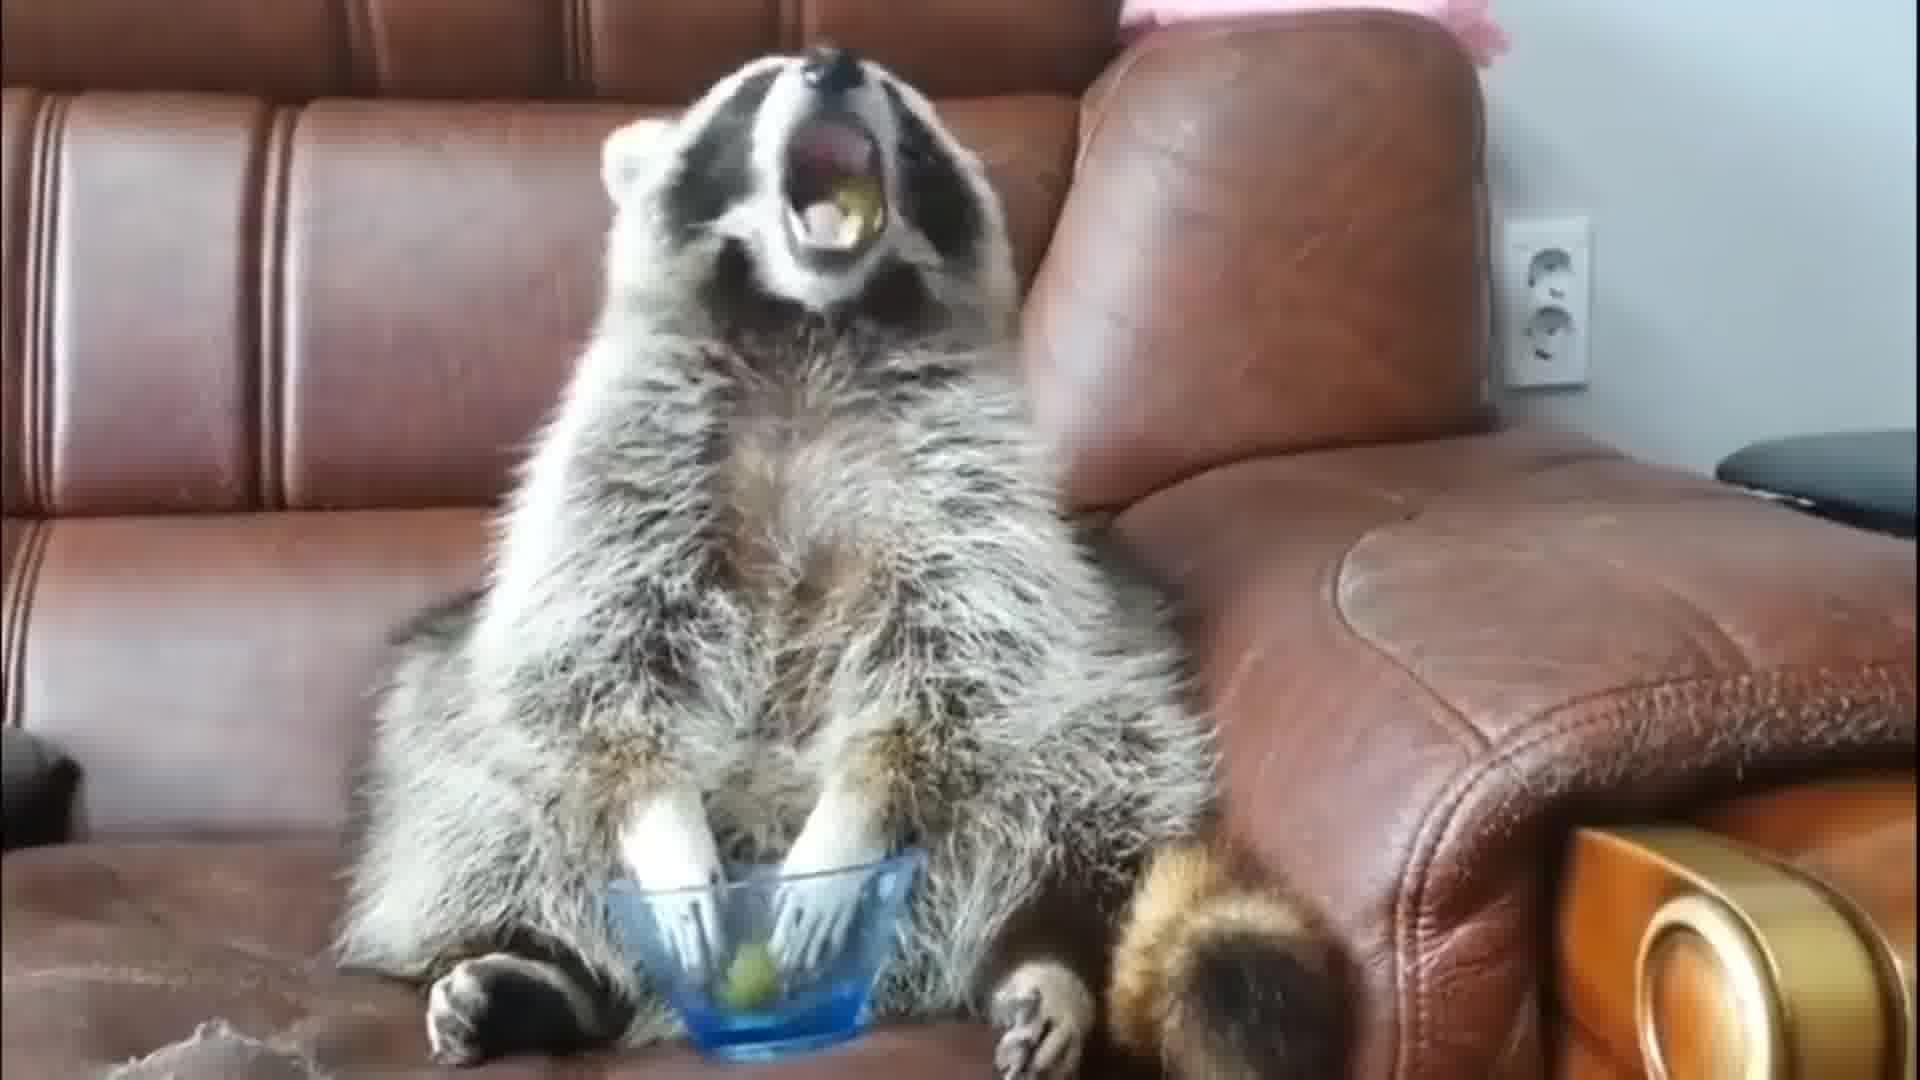raccoon: (332, 40, 1356, 1080)
